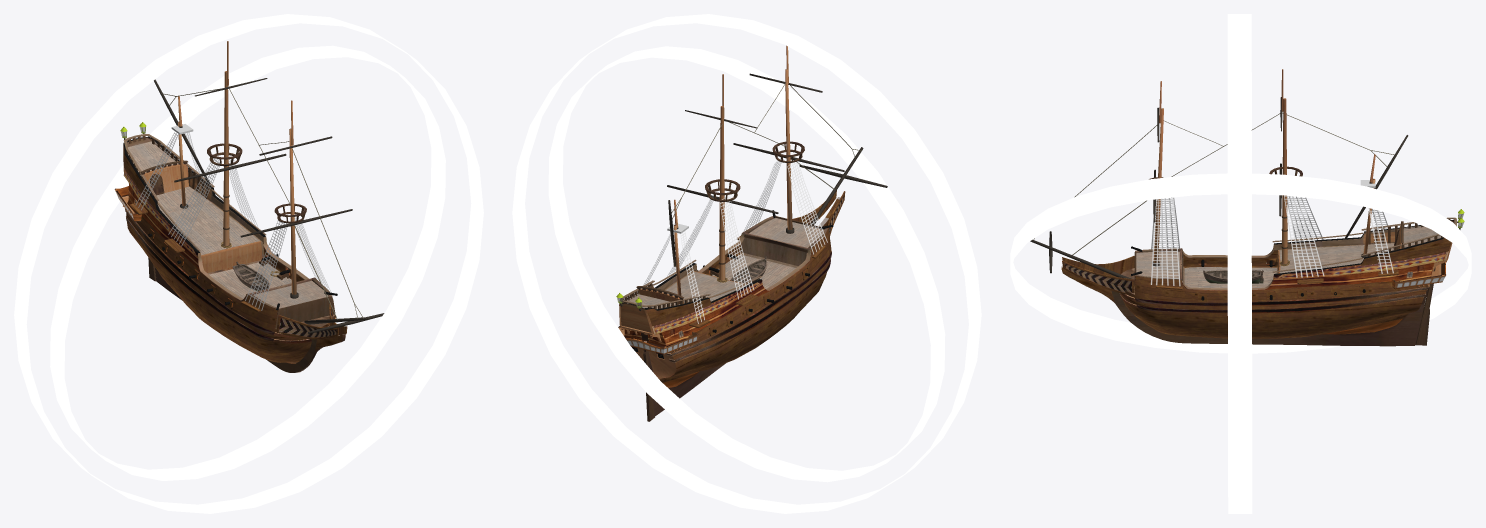
The model's file is roter_lowe_1597.glb.
3 renders of one model, left to right at view 1: azimuth 30°, elevation 25°; view 2: azimuth 150°, elevation 25°; view 3: azimuth 270°, elevation 25°, orthographic. The views are drawn at different scales.
Parts seen in each view (by area): view 1: Plane, anneau_1, anneau_2, cordageMisaine, cordageGrandMat, Cylinder.001, Plane.001, Cylinder, Plane.002, Plane.005, Plane.003, Cylinder.014 (+2 smaller); view 2: Plane, anneau_2, anneau_1, cordageMisaine, cordageGrandMat, Cylinder.001, Cylinder, Plane.003, Plane.002, cordageArtimont, Cylinder.014, Plane.001; view 3: Plane, anneau_2, anneau_1, cordageMisaine, cordageGrandMat, Plane.001, Plane.003, Plane.002, Cylinder, Cylinder.001, cordageArtimont, Cylinder.014.
Boxes of the visible parts, x1=… form: Plane: x1=114, y1=134, x2=345, y2=372; anneau_1: x1=14, y1=14, x2=483, y2=513; anneau_2: x1=50, y1=45, x2=445, y2=480; cordageMisaine: x1=245, y1=217, x2=331, y2=310; cordageGrandMat: x1=168, y1=156, x2=258, y2=246; Cylinder.001: x1=240, y1=100, x2=352, y2=294; Plane.001: x1=276, y1=302, x2=347, y2=339; Cylinder: x1=223, y1=41, x2=229, y2=245; Plane.002: x1=126, y1=216, x2=311, y2=343; Plane.005: x1=128, y1=140, x2=178, y2=176; Plane.003: x1=125, y1=209, x2=335, y2=337; Cylinder.014: x1=154, y1=79, x2=210, y2=205; Plane: x1=618, y1=197, x2=840, y2=416; anneau_2: x1=548, y1=46, x2=945, y2=482; anneau_1: x1=512, y1=14, x2=981, y2=513; cordageMisaine: x1=743, y1=158, x2=827, y2=254; cordageGrandMat: x1=664, y1=195, x2=754, y2=299; Cylinder.001: x1=733, y1=45, x2=844, y2=229; Cylinder: x1=719, y1=74, x2=725, y2=280; Plane.003: x1=664, y1=250, x2=831, y2=356; Plane.002: x1=669, y1=259, x2=830, y2=362; cordageArtimont: x1=643, y1=231, x2=704, y2=323; Cylinder.014: x1=668, y1=199, x2=681, y2=297; Plane.001: x1=792, y1=190, x2=845, y2=247; Plane: x1=1061, y1=217, x2=1457, y2=346; anneau_2: x1=1010, y1=173, x2=1471, y2=353; anneau_1: x1=1227, y1=14, x2=1252, y2=513; cordageMisaine: x1=1150, y1=197, x2=1180, y2=286; cordageGrandMat: x1=1284, y1=195, x2=1324, y2=277; Plane.001: x1=1062, y1=256, x2=1134, y2=294; Plane.003: x1=1121, y1=284, x2=1429, y2=306; Plane.002: x1=1119, y1=293, x2=1425, y2=313; Cylinder: x1=1281, y1=69, x2=1287, y2=263; Cylinder.001: x1=1153, y1=81, x2=1163, y2=262; cordageArtimont: x1=1368, y1=208, x2=1393, y2=273; Cylinder.014: x1=1345, y1=135, x2=1408, y2=255.
Size of what is drawn, in the model's own units: 34.79 by 34.79 by 32.06.
Materials: 17 (7 with a texture image).
